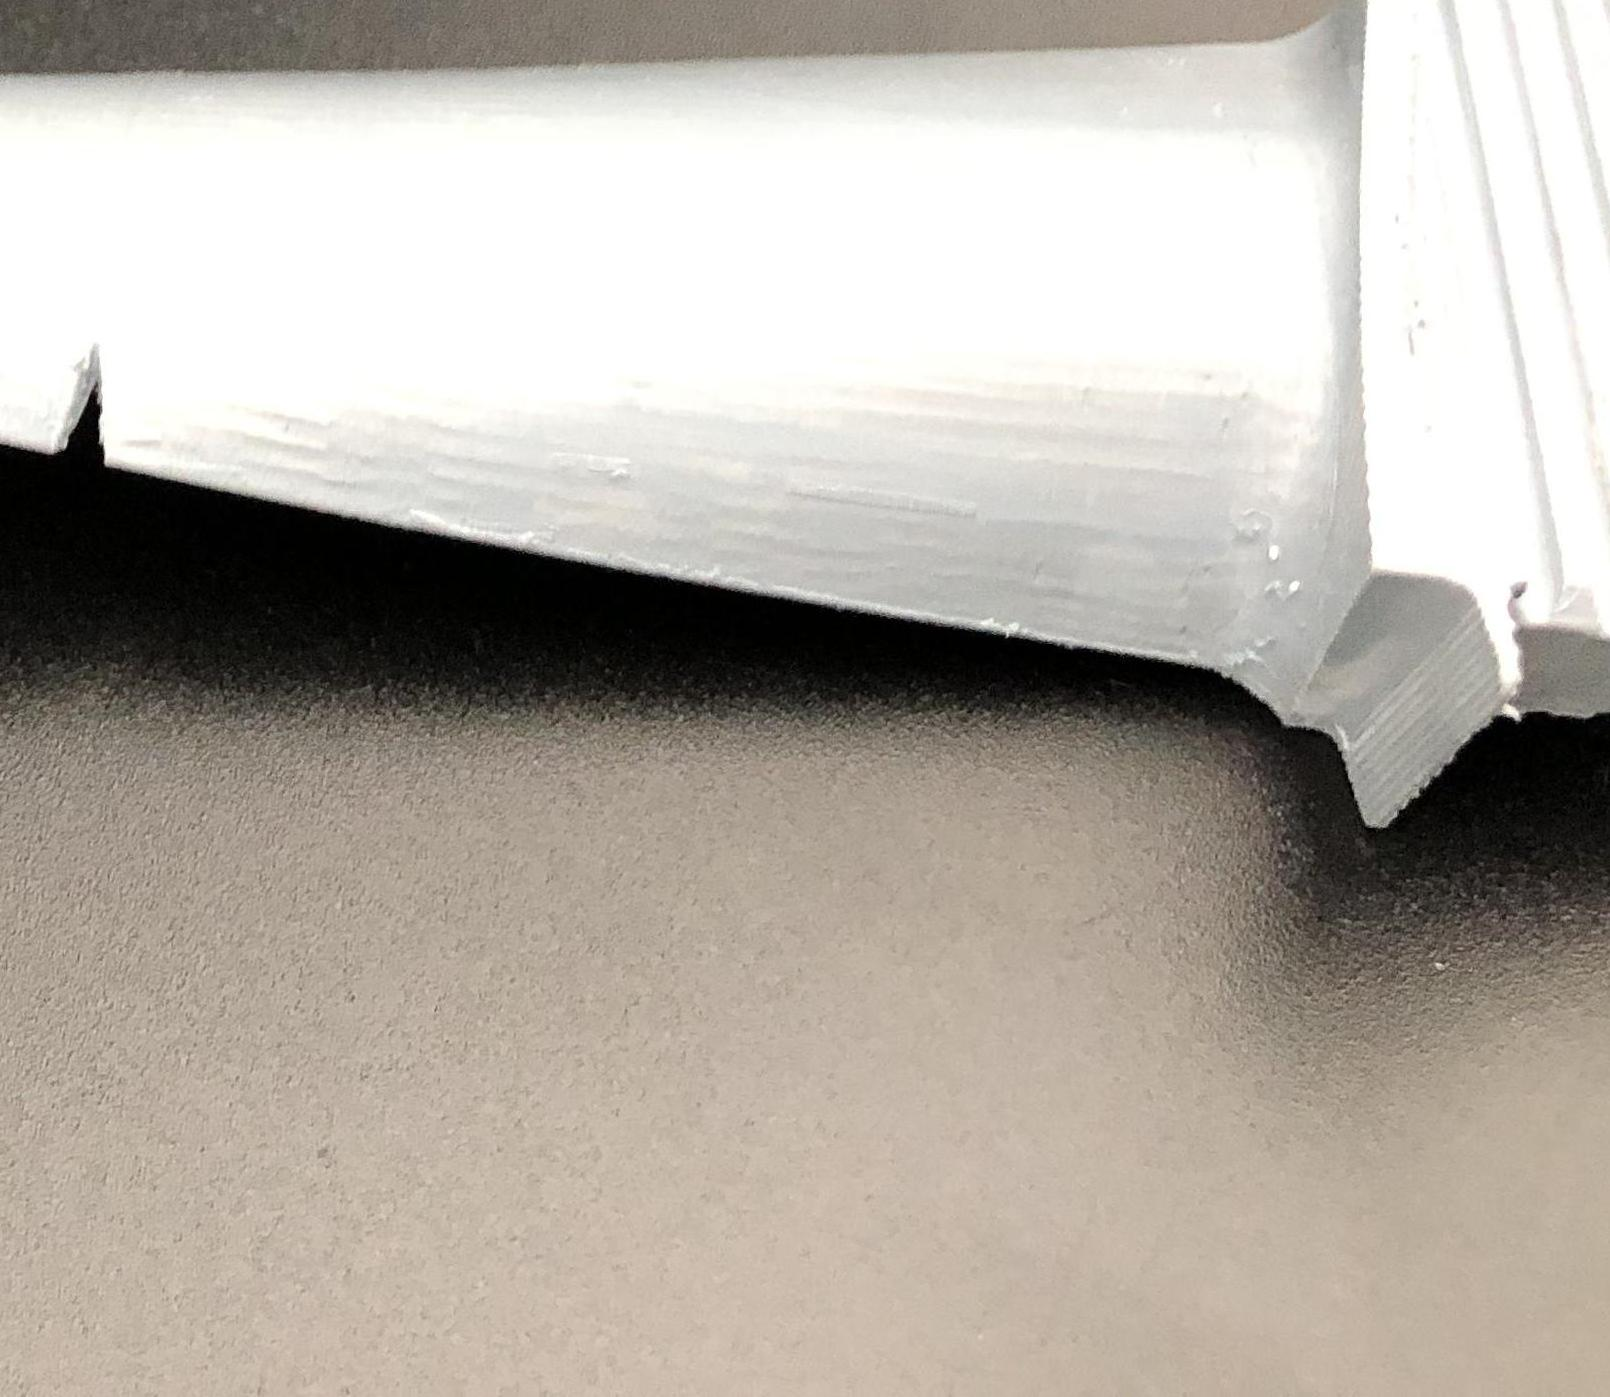groove: (49, 342, 133, 466)
